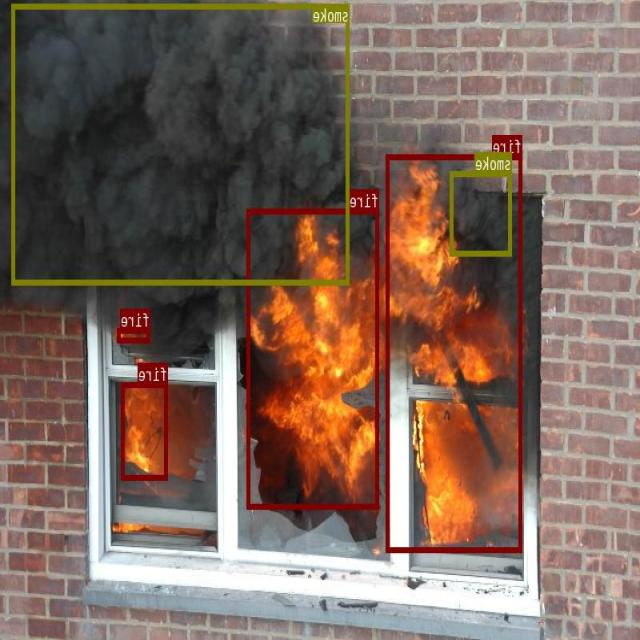fire: (387, 154, 523, 551), (247, 208, 380, 509), (122, 381, 168, 479), (118, 327, 150, 342)
smoke: (13, 3, 350, 283), (451, 171, 513, 255)
